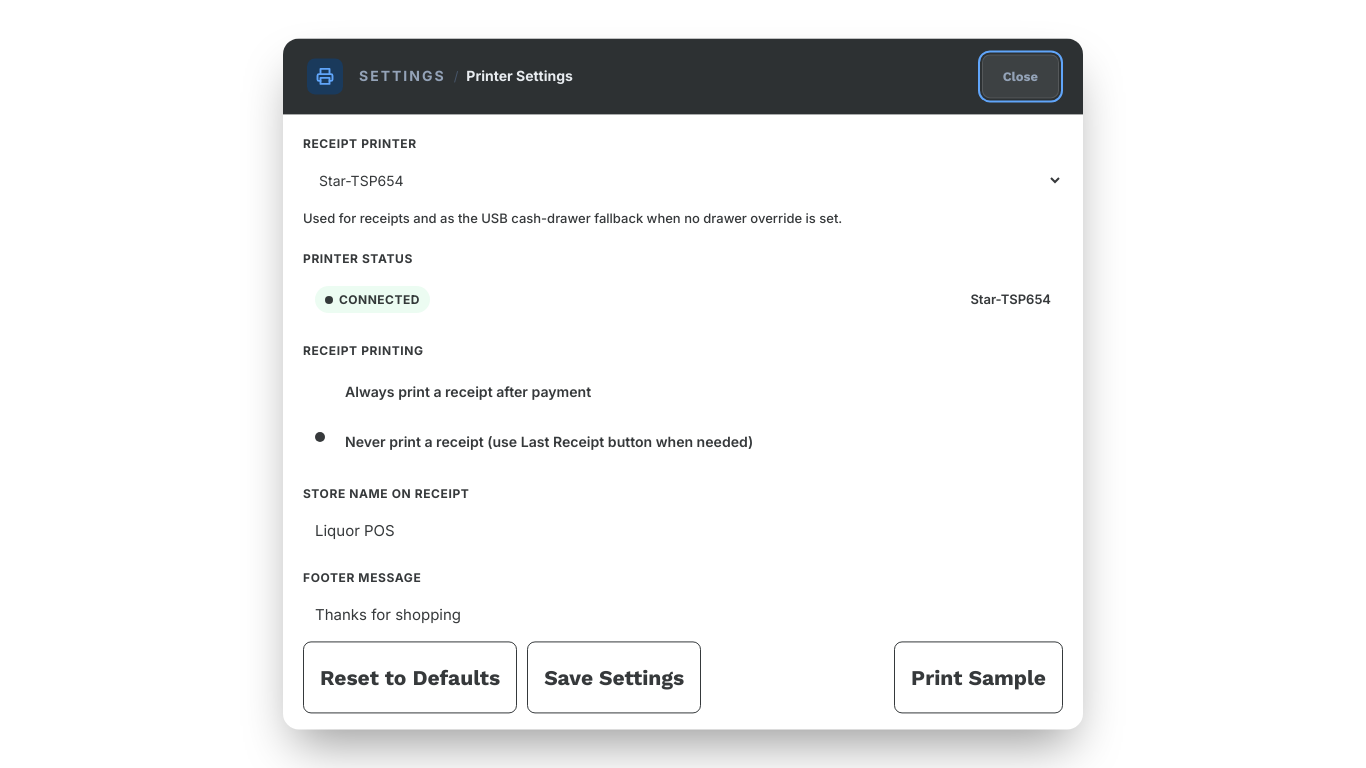
Test: PrinterSettingsModal › shows error modal when saving fails
Expected: the field showing "Liquor POS" below "Store Name on Receipt" is shown, [303, 513, 1063, 548]
What coordinates should you click on to do the following:
click the button "Save Settings"
I would click on:
 (614, 678)
Its box is [527, 642, 701, 714].
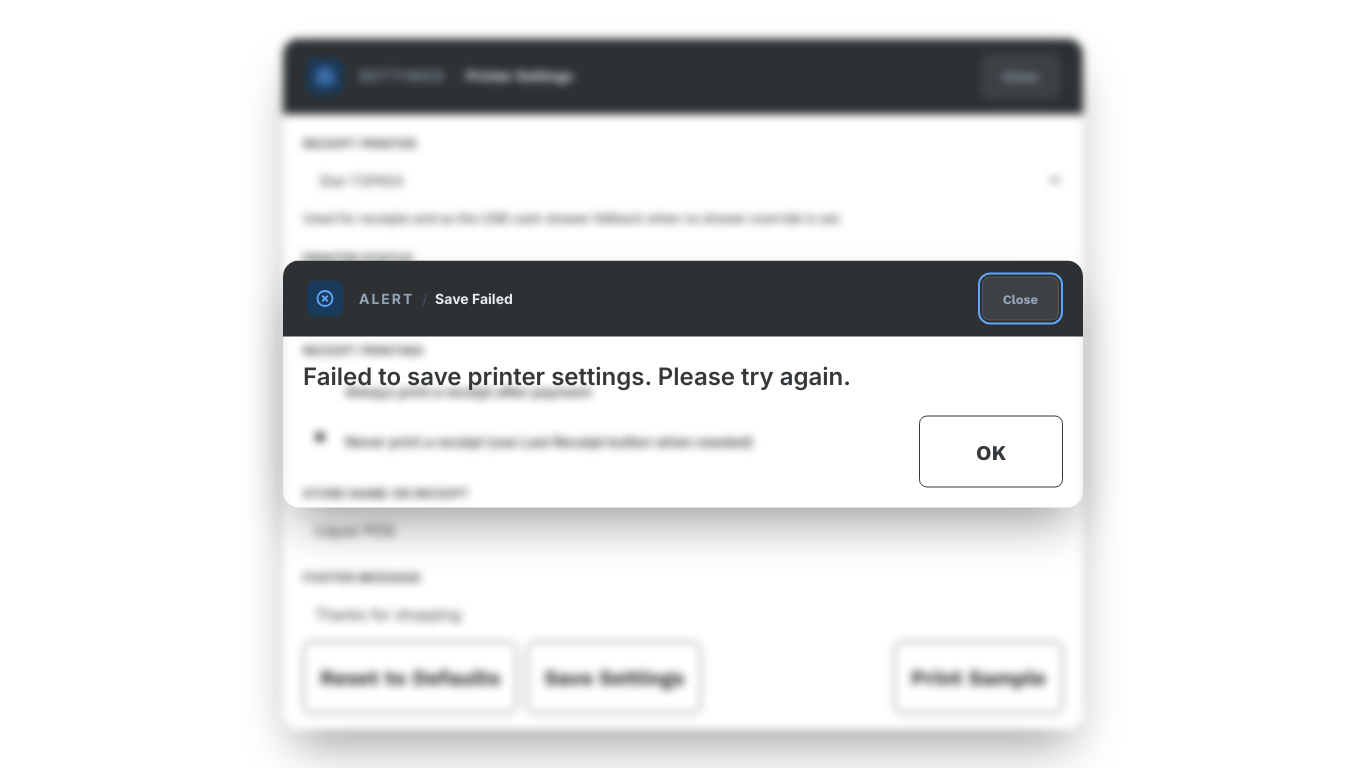
Result: the text "Save Failed" is shown at [435, 287, 513, 310]
Result: the text "Failed to save printer settings. Please try again." is shown at [303, 362, 851, 390]
